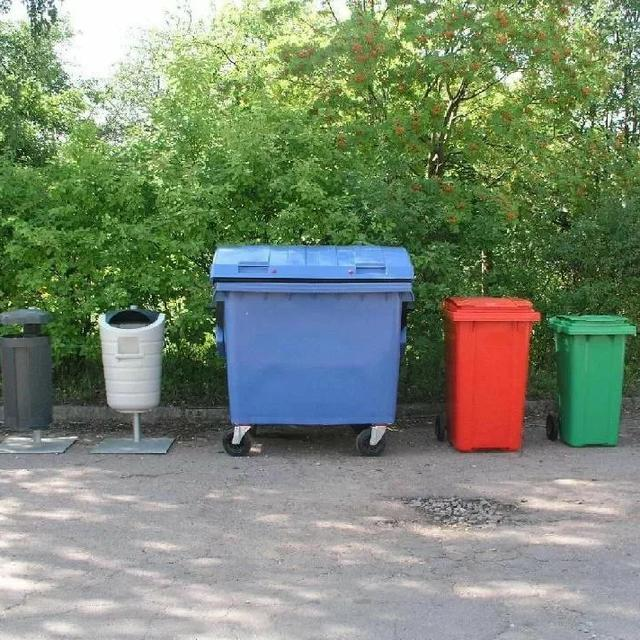Trash_Can_Closed: (210, 244, 415, 426), (443, 297, 540, 451), (549, 314, 635, 446)
